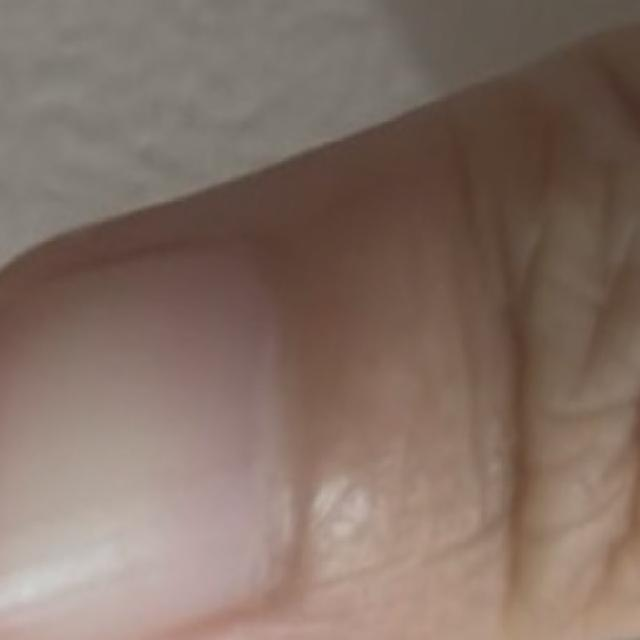Nail: (0, 246, 286, 636)
